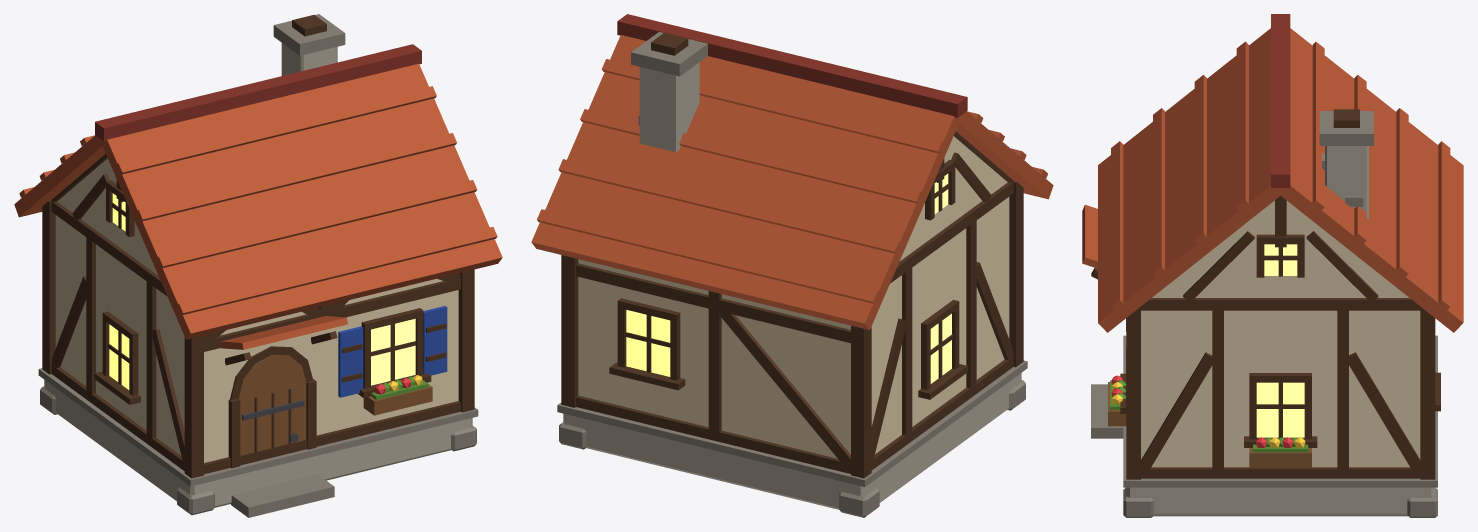
File: Haus_Klein.fbx
3 renders of one model, left to right at view 1: azimuth 30°, elevation 25°; view 2: azimuth 150°, elevation 25°; view 3: azimuth 270°, elevation 25°, orthographic. The views are drawn at different scales.
Visible parts, largest first — view 1: Haus_Klein; view 2: Haus_Klein; view 3: Haus_Klein.
Boxes of the visible parts, box(x1,y1,x2,y2) form: Haus_Klein: box(14, 14, 502, 517); Haus_Klein: box(531, 14, 1053, 517); Haus_Klein: box(1082, 14, 1463, 517).
Size of the model in its own units: 5.17 by 5.6 by 5.18.
